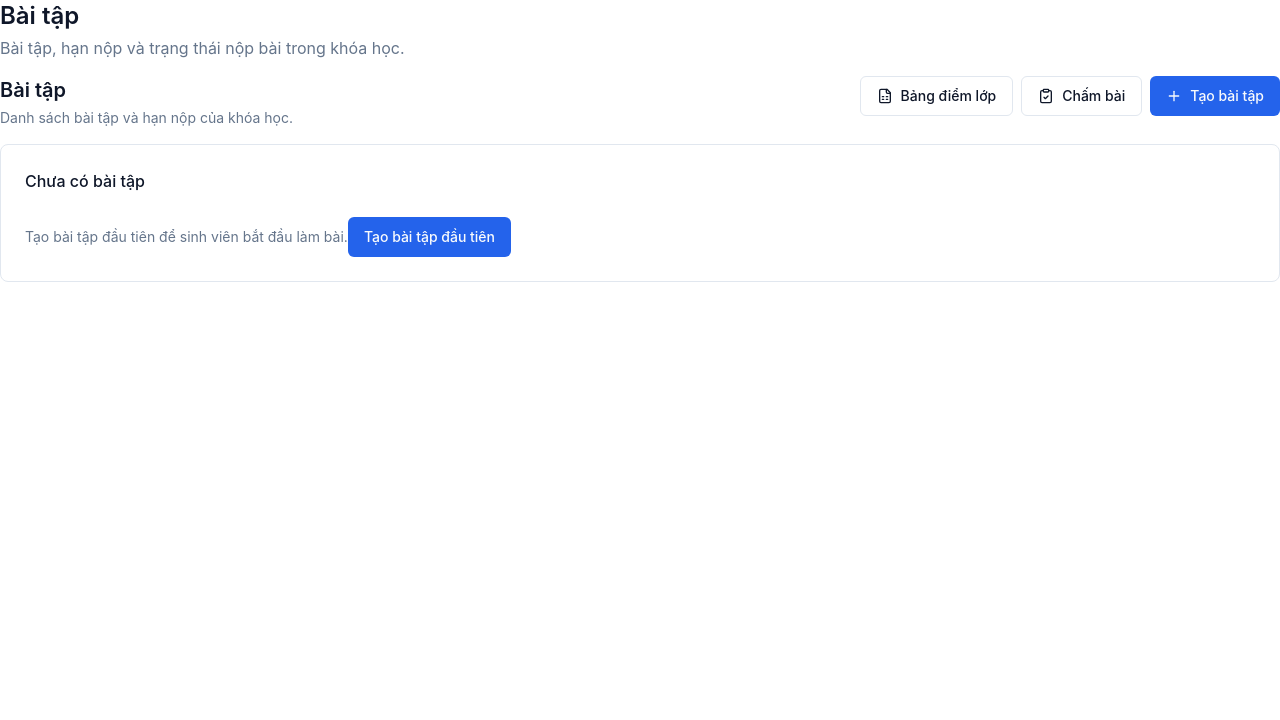
Test: CourseAssignmentsPage › lets the course owner open the create assignment form
The width and height of the screenshot is (1280, 720).
Click the button "Tạo bài tập" at (1215, 96), box [1150,76,1279,116]
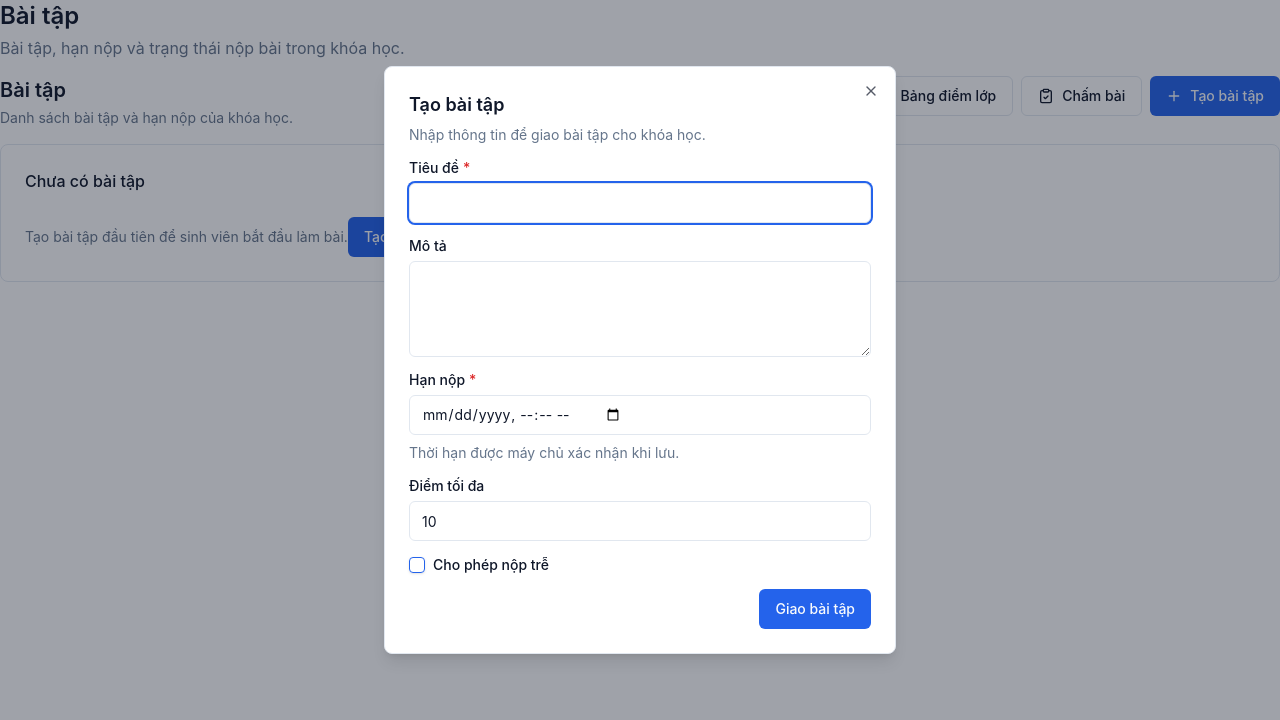
Expected: the dialog is shown, [384,66,896,654]
Expected: the field labelled "Tiêu đề*" is shown, [409,183,871,223]
